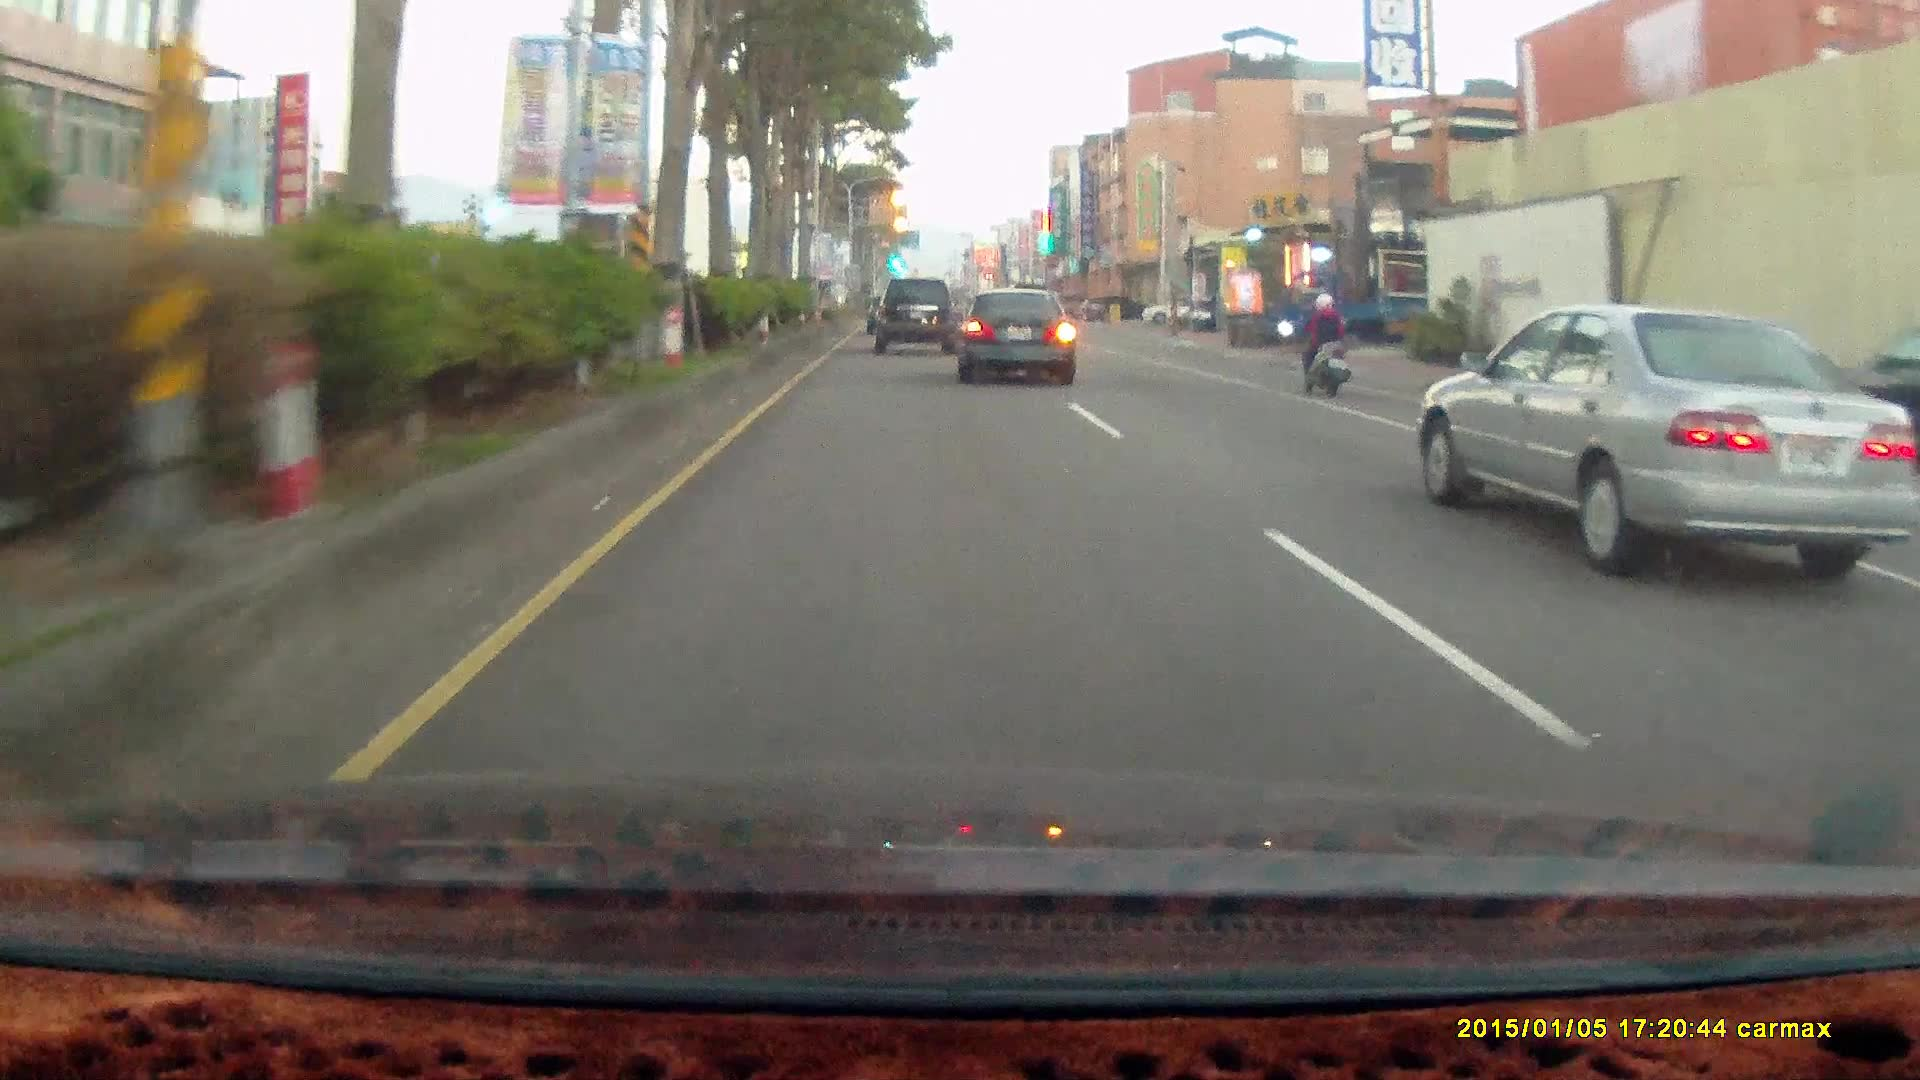rider: (1286, 283, 1361, 407), (1294, 290, 1351, 398)
vehicle: (1419, 305, 1910, 578), (1417, 303, 1901, 570), (1274, 269, 1480, 356), (951, 286, 1076, 386), (1279, 269, 1435, 348), (961, 295, 1085, 389), (873, 279, 957, 353), (876, 282, 960, 354), (1140, 296, 1204, 326), (1086, 294, 1151, 320)
